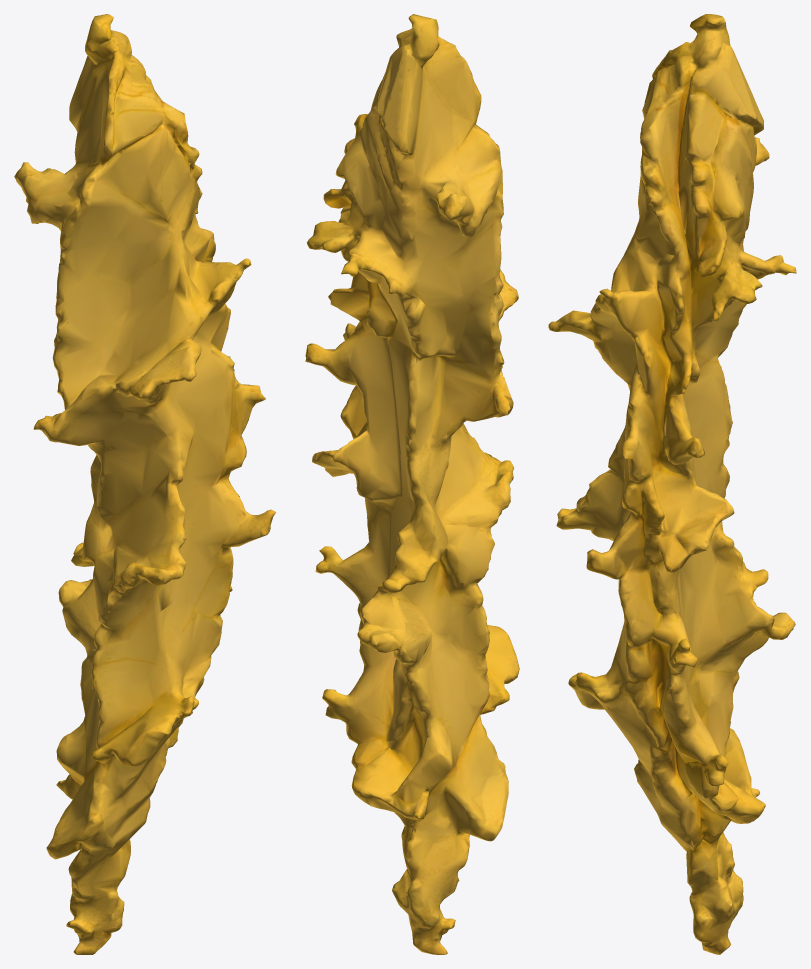
File: bk-decor-gold-flake.glb
The picture shows the model from 3 angles, left to right: view 1: azimuth 30°, elevation 25°; view 2: azimuth 150°, elevation 25°; view 3: azimuth 270°, elevation 25°; orthographic projection.
Parts seen in each view (by area): view 1: node_0; view 2: node_0; view 3: node_0.
Boxes of the visible parts, x1=… form: node_0: x1=14, y1=14, x2=276, y2=954; node_0: x1=305, y1=14, x2=519, y2=954; node_0: x1=548, y1=14, x2=796, y2=954.
Bounding box in the file's own units: 0.2686 × 1.19 × 0.2841.
1 material, 1 textured.
